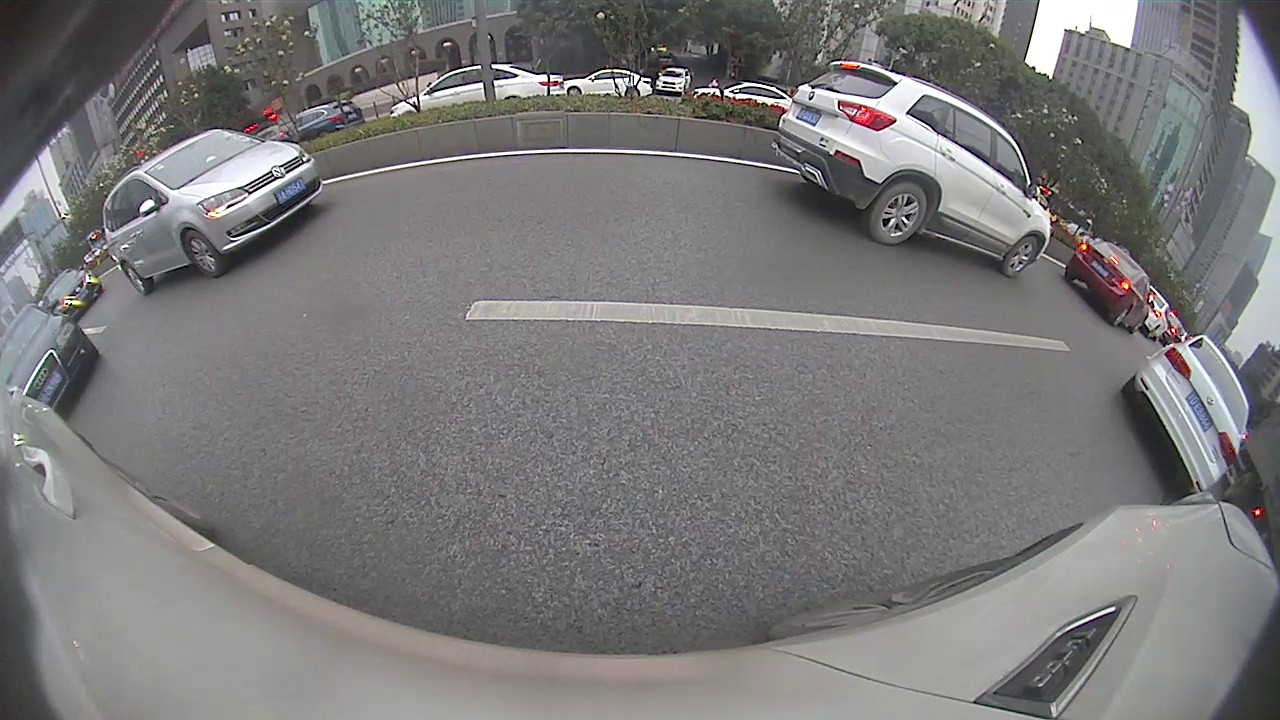car: (771, 61, 1053, 279), (102, 129, 323, 293), (1118, 333, 1250, 494), (2, 303, 98, 411), (388, 63, 567, 114), (1063, 240, 1157, 337)
front: (181, 231, 222, 277), (1002, 237, 1039, 277), (570, 87, 581, 100)
rear: (869, 181, 926, 244), (120, 259, 148, 293), (625, 88, 639, 102)
